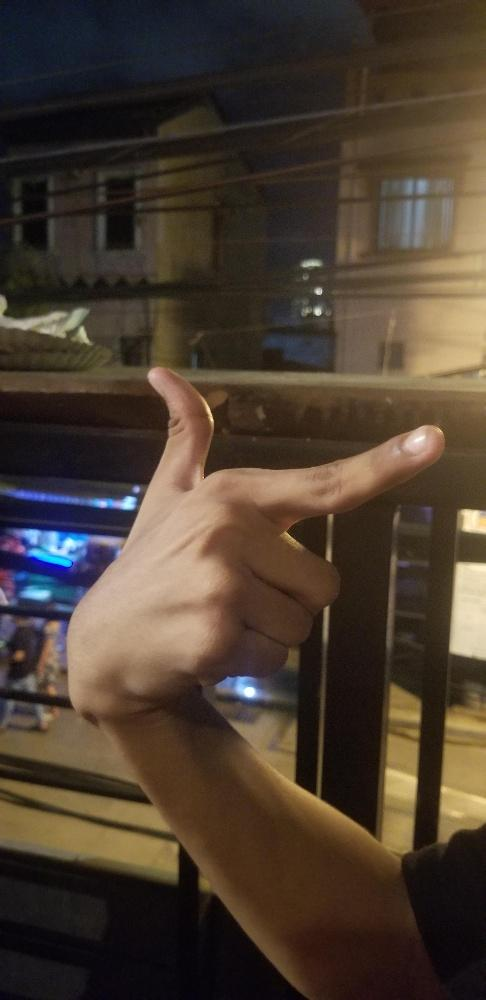g: (68, 367, 445, 712)
